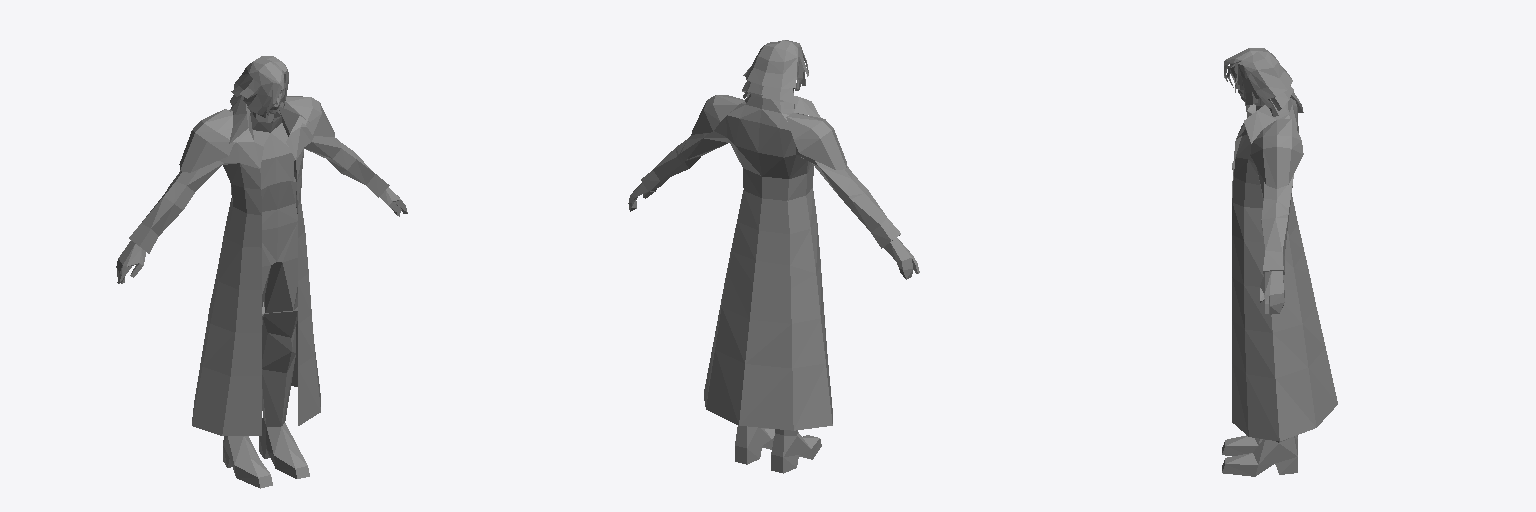
File: Genesis.obj
3 renders of one model, left to right at view 1: azimuth 30°, elevation 25°; view 2: azimuth 150°, elevation 25°; view 3: azimuth 270°, elevation 25°, orthographic.
Parts seen in each view (by area): view 1: rdmobj00; view 2: rdmobj00; view 3: rdmobj00.
Boxes of the visible parts, x1=… form: rdmobj00: x1=116, y1=56, x2=407, y2=488; rdmobj00: x1=628, y1=40, x2=919, y2=473; rdmobj00: x1=1222, y1=48, x2=1337, y2=476.
Size of the model in its own units: 121 by 164 by 42.16.